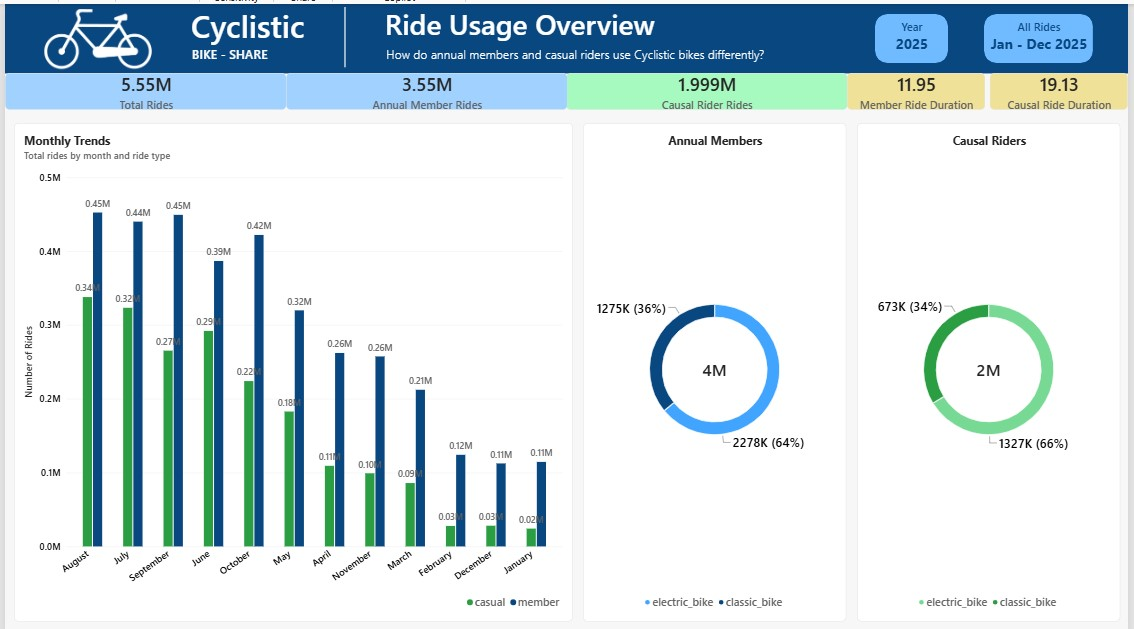

Layout of this report page (visuals, bound fields, positions):
{"tool":"powerbi","page":{"name":"Page 1","canvas":[1920,1080],"ordinal":0},"visuals":[{"type":"shape","box":[0,0,1920,118.6],"z":0},{"type":"textbox","box":[304.5,0,221.5,71.2],"z":1000},{"type":"textbox","box":[304.5,71.2,160.2,37.6],"z":2000},{"type":"shape","box":[561.6,5.9,37.6,102.8],"z":3000},{"type":"textbox","box":[644.6,2,470.6,67.2],"z":4000},{"type":"textbox","box":[644.6,71.2,660.4,29.7],"z":5000},{"type":"image","box":[58.1,8.5,201.7,102.8],"z":6000},{"type":"shape","box":[1486.7,17.1,124.7,83.7],"z":7000},{"type":"textbox","box":[1502.1,25.6,95.7,68.4],"z":8000},{"type":"shape","box":[1673,17.1,186.3,83.7],"z":9000},{"type":"textbox","box":[1683.2,25.6,167.5,59.8],"z":10000},{"type":"cardVisual","fields":{"Data":["Sum(Rider Type.ride_count)"]},"box":[0,118.6,481,63.3],"z":11000},{"type":"cardVisual","fields":{"Data":["Rider Type.Causal Rides"]},"box":[959,118.6,481,63.3],"z":12000},{"type":"cardVisual","fields":{"Data":["Rider Type.Member Rides"]},"box":[480.5,118.6,481,63.3],"z":13000},{"type":"cardVisual","fields":{"Data":["Rider Type.Member Ride Duration","Rider Type.Causal Ride Duration"]},"box":[1439.5,118.6,481,63.3],"z":14000},{"type":"clusteredColumnChart","title":"Monthly Trends","fields":{"Category":["Monthly Trends.month_name"],"Series":["Monthly Trends.member_casual"],"Y":["Sum(Monthly Trends.ride_count)"]},"box":[15,203.7,955.1,852.2],"z":15000},{"type":"donutChart","title":"Annual Members","fields":{"Category":["Bike Type.rideable_type","Bike Type.member_casual"],"Y":["Sum(Bike Type.ride_count)"]},"box":[988,203.7,450,852.2],"z":16000},{"type":"donutChart","title":"Causal Riders","fields":{"Category":["Bike Type.rideable_type","Bike Type.member_casual"],"Y":["Sum(Bike Type.ride_count)"]},"box":[1455.3,203.7,450,852.2],"z":17000}]}

Visuals, with their boxes in screenshot pixels (x1, y1, x2, y2), scaled from the page's 1920x1080 canvas onto the 1134x629 screenshot:
shape: [x1=0, y1=0, x2=1133, y2=69]
textbox: [x1=180, y1=0, x2=311, y2=41]
textbox: [x1=180, y1=41, x2=274, y2=63]
shape: [x1=332, y1=3, x2=354, y2=63]
textbox: [x1=381, y1=1, x2=659, y2=40]
textbox: [x1=381, y1=41, x2=771, y2=59]
image: [x1=34, y1=5, x2=153, y2=65]
shape: [x1=878, y1=10, x2=952, y2=59]
textbox: [x1=887, y1=15, x2=944, y2=55]
shape: [x1=988, y1=10, x2=1098, y2=59]
textbox: [x1=994, y1=15, x2=1093, y2=50]
cardVisual - Sum(Rider Type.ride_count): [x1=0, y1=69, x2=284, y2=106]
cardVisual - Rider Type.Causal Rides: [x1=566, y1=69, x2=850, y2=106]
cardVisual - Rider Type.Member Rides: [x1=284, y1=69, x2=568, y2=106]
cardVisual - Rider Type.Member Ride Duration x Rider Type.Causal Ride Duration: [x1=850, y1=69, x2=1133, y2=106]
"Monthly Trends" clusteredColumnChart: [x1=9, y1=119, x2=573, y2=615]
"Annual Members" donutChart: [x1=584, y1=119, x2=849, y2=615]
"Causal Riders" donutChart: [x1=860, y1=119, x2=1125, y2=615]
